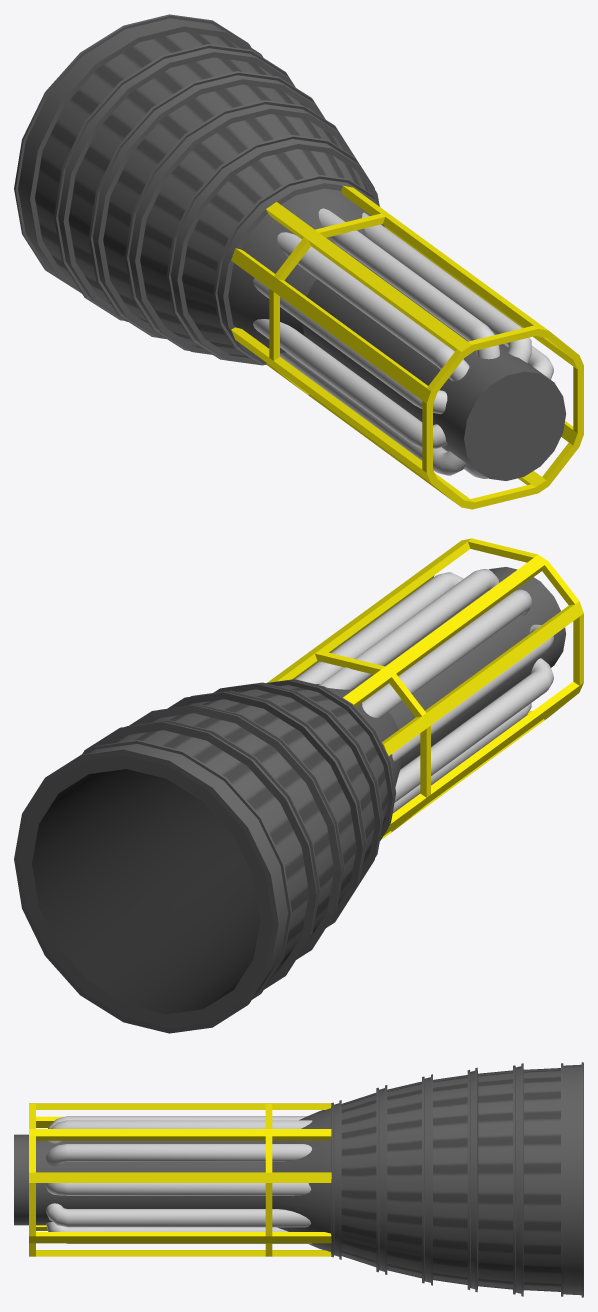
The model's file is HafniumIridiumObject.DAE.
3 views of the same model, one above another, from view 1: azimuth 30°, elevation 25°; view 2: azimuth 150°, elevation 25°; view 3: azimuth 270°, elevation 25° (orthographic). The views are drawn at different scales.
Parts seen in each view (by area): view 1: Box001; view 2: Box001; view 3: Box001.
Boxes of the visible parts, bbox=[...] form: Box001: bbox=[14, 14, 583, 509]; Box001: bbox=[14, 538, 583, 1033]; Box001: bbox=[14, 1062, 583, 1297].
Bounding box in the file's own units: 4.08 × 9.84 × 4.02.
1 material, 1 textured.
